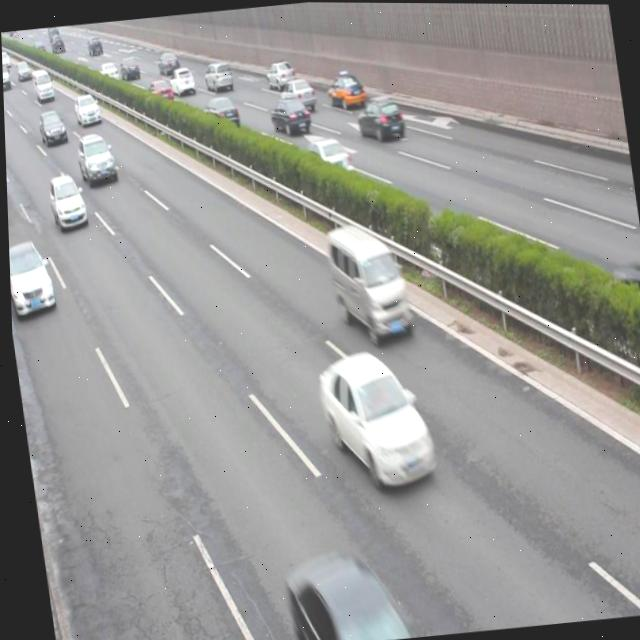car: (312, 343, 437, 496), (279, 550, 414, 640), (7, 237, 55, 321), (44, 171, 88, 233), (298, 133, 351, 183), (352, 93, 404, 143), (73, 130, 117, 188), (267, 94, 311, 137), (323, 68, 364, 111), (200, 92, 239, 131), (278, 76, 316, 112), (35, 106, 67, 146), (263, 57, 297, 92), (201, 57, 234, 93), (143, 75, 174, 109), (166, 64, 195, 98)
truck: (322, 215, 412, 345)
